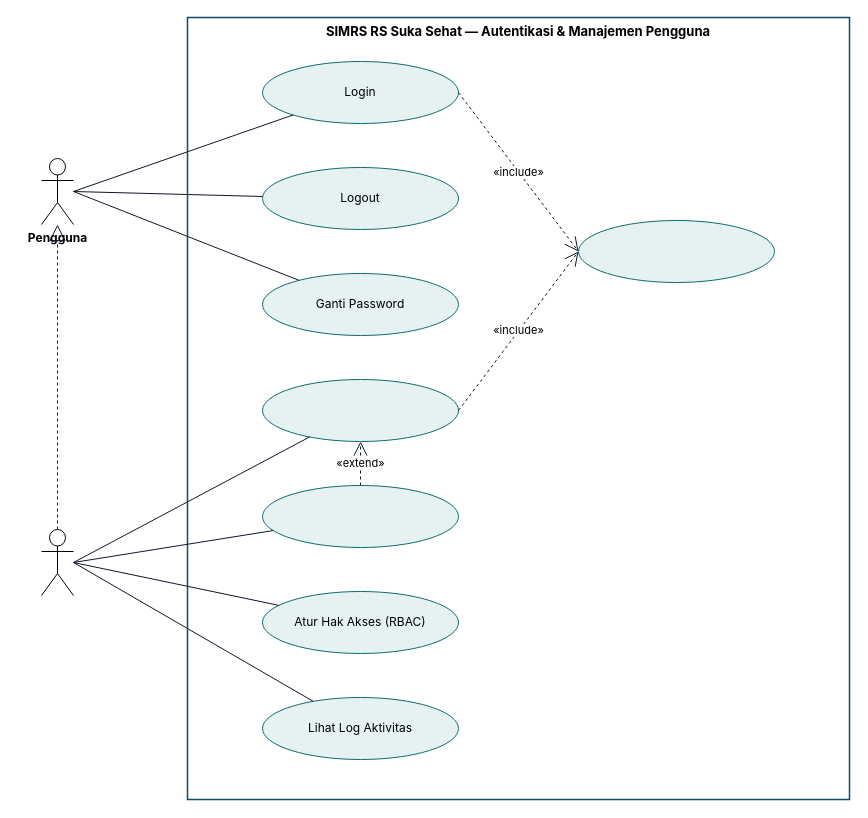
Some shapes in this 868 by 818 pixel diagram are drawn without their labels. Each missing label, with the centre of its shape:
Administrator: the point at 57,562
Catat Audit Log: the point at 676,251
Kelola Akun Pengguna: the point at 360,410
Reset Password Akun: the point at 360,516
